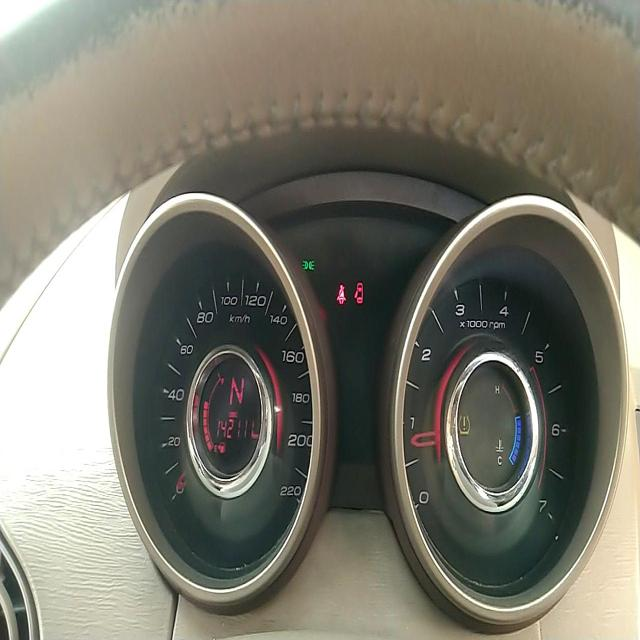odometer: (215, 417, 254, 440)
